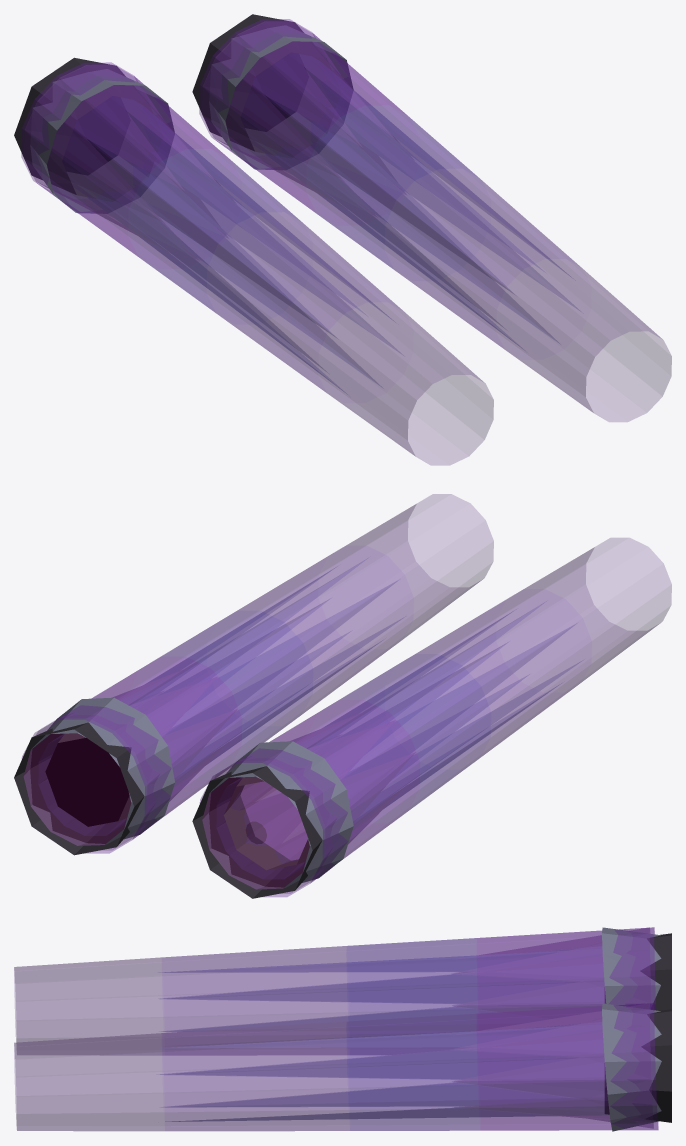
The model's file is Bunner_T2CCVNG.obj.
The picture shows the model from 3 angles, top to bottom: view 1: azimuth 30°, elevation 25°; view 2: azimuth 150°, elevation 25°; view 3: azimuth 270°, elevation 25°; orthographic projection. The views are drawn at different scales.
Parts seen in each view (by area): view 1: ShapeIndexedFaceSet.057_ShapeIndexedFaceSet.058, ShapeIndexedFaceSet.051_ShapeIndexedFaceSet.052, ShapeIndexedFaceSet.055_ShapeIndexedFaceSet.056, ShapeIndexedFaceSet.061_ShapeIndexedFaceSet.062, ShapeIndexedFaceSet.058_ShapeIndexedFaceSet.059, ShapeIndexedFaceSet.052_ShapeIndexedFaceSet.053, ShapeIndexedFaceSet.054_ShapeIndexedFaceSet.055, ShapeIndexedFaceSet.060_ShapeIndexedFaceSet.061, ShapeIndexedFaceSet.053_ShapeIndexedFaceSet.054, ShapeIndexedFaceSet.059_ShapeIndexedFaceSet.060, ShapeIndexedFaceSet.056_ShapeIndexedFaceSet.057, ShapeIndexedFaceSet.050_ShapeIndexedFaceSet.051 (+4 smaller); view 2: ShapeIndexedFaceSet.051_ShapeIndexedFaceSet.052, ShapeIndexedFaceSet.057_ShapeIndexedFaceSet.058, ShapeIndexedFaceSet.045_ShapeIndexedFaceSet.046, ShapeIndexedFaceSet.060_ShapeIndexedFaceSet.061, ShapeIndexedFaceSet.054_ShapeIndexedFaceSet.055, ShapeIndexedFaceSet.055_ShapeIndexedFaceSet.056, ShapeIndexedFaceSet.061_ShapeIndexedFaceSet.062, ShapeIndexedFaceSet.030_ShapeIndexedFaceSet.031, ShapeIndexedFaceSet.058_ShapeIndexedFaceSet.059, ShapeIndexedFaceSet.052_ShapeIndexedFaceSet.053, ShapeIndexedFaceSet.053_ShapeIndexedFaceSet.054, ShapeIndexedFaceSet.059_ShapeIndexedFaceSet.060 (+6 smaller); view 3: ShapeIndexedFaceSet.057_ShapeIndexedFaceSet.058, ShapeIndexedFaceSet.058_ShapeIndexedFaceSet.059, ShapeIndexedFaceSet.061_ShapeIndexedFaceSet.062, ShapeIndexedFaceSet.055_ShapeIndexedFaceSet.056, ShapeIndexedFaceSet.051_ShapeIndexedFaceSet.052, ShapeIndexedFaceSet.059_ShapeIndexedFaceSet.060, ShapeIndexedFaceSet.060_ShapeIndexedFaceSet.061, ShapeIndexedFaceSet.054_ShapeIndexedFaceSet.055, ShapeIndexedFaceSet.052_ShapeIndexedFaceSet.053, ShapeIndexedFaceSet.056_ShapeIndexedFaceSet.057, ShapeIndexedFaceSet.053_ShapeIndexedFaceSet.054, ShapeIndexedFaceSet.030_ShapeIndexedFaceSet.031 (+2 smaller).
Boxes of the visible parts, bbox=[...] form: ShapeIndexedFaceSet.057_ShapeIndexedFaceSet.058: bbox=[252, 62, 579, 349]; ShapeIndexedFaceSet.051_ShapeIndexedFaceSet.052: bbox=[75, 106, 401, 393]; ShapeIndexedFaceSet.055_ShapeIndexedFaceSet.056: bbox=[207, 212, 413, 402]; ShapeIndexedFaceSet.061_ShapeIndexedFaceSet.062: bbox=[385, 169, 591, 359]; ShapeIndexedFaceSet.058_ShapeIndexedFaceSet.059: bbox=[199, 19, 419, 225]; ShapeIndexedFaceSet.052_ShapeIndexedFaceSet.053: bbox=[21, 62, 241, 268]; ShapeIndexedFaceSet.054_ShapeIndexedFaceSet.055: bbox=[318, 302, 493, 465]; ShapeIndexedFaceSet.060_ShapeIndexedFaceSet.061: bbox=[496, 259, 671, 421]; ShapeIndexedFaceSet.053_ShapeIndexedFaceSet.054: bbox=[128, 149, 312, 324]; ShapeIndexedFaceSet.059_ShapeIndexedFaceSet.060: bbox=[306, 105, 490, 280]; ShapeIndexedFaceSet.056_ShapeIndexedFaceSet.057: bbox=[202, 21, 394, 208]; ShapeIndexedFaceSet.050_ShapeIndexedFaceSet.051: bbox=[24, 65, 217, 251]; ShapeIndexedFaceSet.051_ShapeIndexedFaceSet.052: bbox=[216, 602, 581, 878]; ShapeIndexedFaceSet.057_ShapeIndexedFaceSet.058: bbox=[38, 558, 402, 835]; ShapeIndexedFaceSet.045_ShapeIndexedFaceSet.046: bbox=[24, 733, 309, 889]; ShapeIndexedFaceSet.060_ShapeIndexedFaceSet.061: bbox=[318, 494, 493, 648]; ShapeIndexedFaceSet.054_ShapeIndexedFaceSet.055: bbox=[496, 538, 671, 692]; ShapeIndexedFaceSet.055_ShapeIndexedFaceSet.056: bbox=[385, 589, 591, 769]; ShapeIndexedFaceSet.061_ShapeIndexedFaceSet.062: bbox=[207, 546, 413, 725]; ShapeIndexedFaceSet.030_ShapeIndexedFaceSet.031: bbox=[23, 697, 353, 889]; ShapeIndexedFaceSet.058_ShapeIndexedFaceSet.059: bbox=[22, 657, 241, 853]; ShapeIndexedFaceSet.052_ShapeIndexedFaceSet.053: bbox=[200, 700, 419, 896]; ShapeIndexedFaceSet.053_ShapeIndexedFaceSet.054: bbox=[307, 654, 490, 823]; ShapeIndexedFaceSet.059_ShapeIndexedFaceSet.060: bbox=[129, 611, 312, 779]; ShapeIndexedFaceSet.057_ShapeIndexedFaceSet.058: bbox=[159, 1022, 607, 1121]; ShapeIndexedFaceSet.058_ShapeIndexedFaceSet.059: bbox=[476, 1003, 658, 1130]; ShapeIndexedFaceSet.061_ShapeIndexedFaceSet.062: bbox=[162, 1021, 349, 1131]; ShapeIndexedFaceSet.055_ShapeIndexedFaceSet.056: bbox=[162, 946, 349, 1055]; ShapeIndexedFaceSet.051_ShapeIndexedFaceSet.052: bbox=[159, 946, 604, 1031]; ShapeIndexedFaceSet.059_ShapeIndexedFaceSet.060: bbox=[346, 1014, 480, 1130]; ShapeIndexedFaceSet.060_ShapeIndexedFaceSet.061: bbox=[14, 1033, 164, 1131]; ShapeIndexedFaceSet.054_ShapeIndexedFaceSet.055: bbox=[14, 957, 164, 1055]; ShapeIndexedFaceSet.052_ShapeIndexedFaceSet.053: bbox=[476, 927, 655, 1013]; ShapeIndexedFaceSet.056_ShapeIndexedFaceSet.057: bbox=[452, 1003, 653, 1128]; ShapeIndexedFaceSet.053_ShapeIndexedFaceSet.054: bbox=[346, 938, 478, 1054]; ShapeIndexedFaceSet.030_ShapeIndexedFaceSet.031: bbox=[602, 927, 661, 1131].
Bounding box in the file's own units: 18.62 × 7.85 × 39.67.
